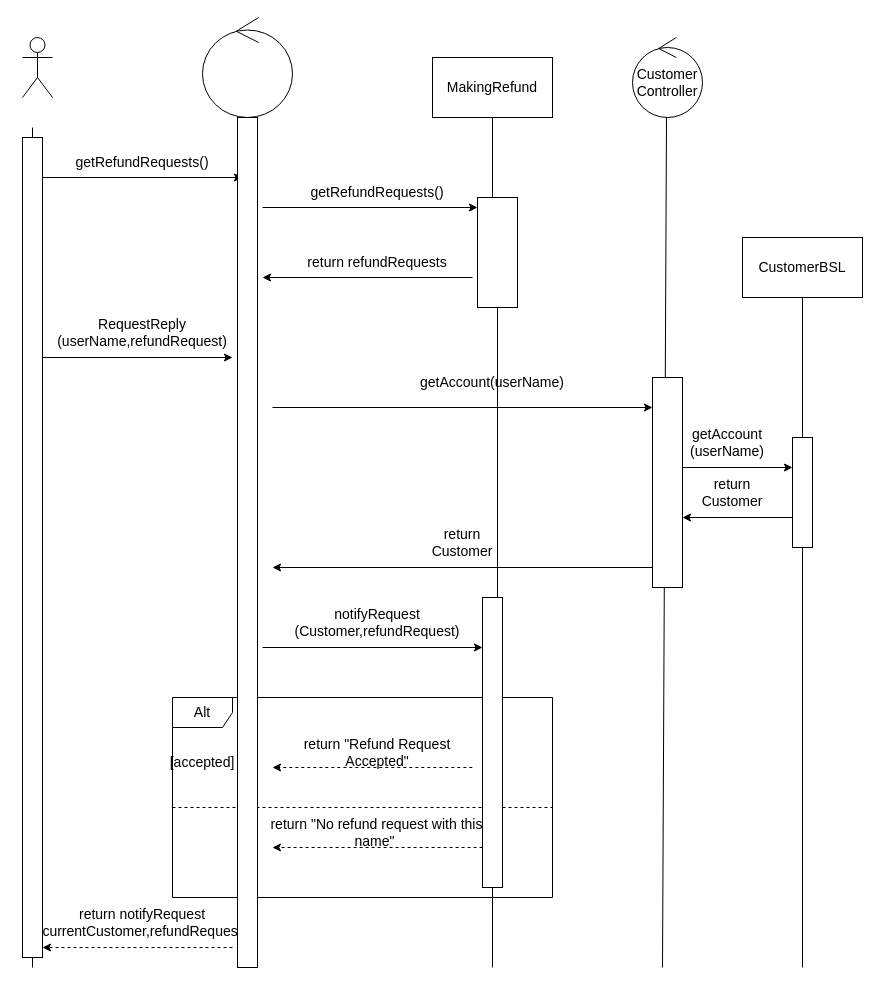
This 880x986 diagram has some shape labels left out. Here are the shapes that lost their labels. From the top down, the centre of each, then its label:
pixel 37 67: Admin
pixel 247 67: Admin Refund Request Controller
